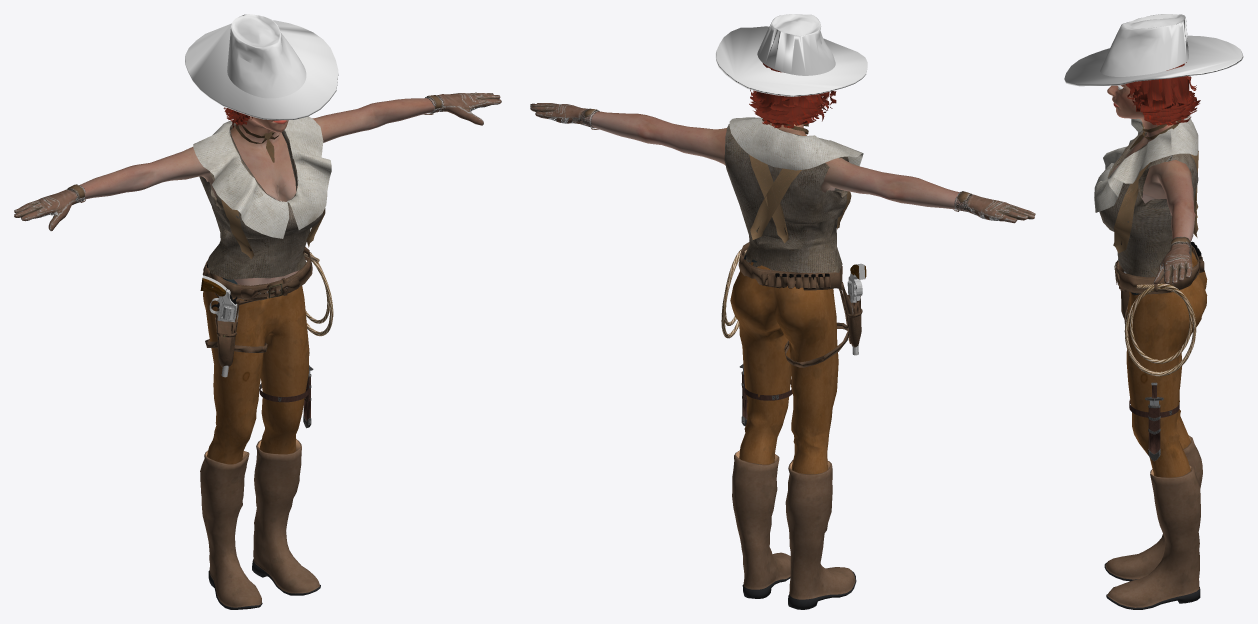
The model's file is DianaV2.fbx.
3 renders of one model, left to right at view 1: azimuth 30°, elevation 25°; view 2: azimuth 150°, elevation 25°; view 3: azimuth 270°, elevation 25°, orthographic.
Parts seen in each view (by area): view 1: Vestito, Pantaloni, Cappello, Stivali, Corpo, Cintura, Guanti, Corda; view 2: Pantaloni, Vestito, Stivali, Cappello, Corpo, Cintura, Guanti, Capelli; view 3: Vestito, Pantaloni, Stivali, Cappello, Corpo, Capelli, Corda, Cintura, Guanti, Coltello.
Boxes of the visible parts, <box> form: Vestito: <box>193,116,331,279</box>; Pantaloni: <box>203,277,309,464</box>; Cappello: <box>185,14,338,120</box>; Stivali: <box>200,439,320,609</box>; Corpo: <box>76,98,440,285</box>; Cintura: <box>202,246,312,366</box>; Guanti: <box>14,92,501,231</box>; Corda: <box>304,252,333,336</box>; Pantaloni: <box>730,255,838,474</box>; Vestito: <box>724,117,863,273</box>; Stivali: <box>732,450,856,609</box>; Cappello: <box>715,14,867,96</box>; Corpo: <box>585,111,970,262</box>; Cintura: <box>738,242,862,367</box>; Guanti: <box>530,103,1035,223</box>; Capelli: <box>749,63,836,128</box>; Vestito: <box>1094,116,1198,277</box>; Pantaloni: <box>1126,251,1207,477</box>; Stivali: <box>1104,435,1202,609</box>; Cappello: <box>1064,14,1243,86</box>; Corpo: <box>1107,84,1195,244</box>; Capelli: <box>1126,62,1200,125</box>; Corda: <box>1124,283,1196,376</box>; Cintura: <box>1114,241,1204,335</box>; Guanti: <box>1153,236,1192,284</box>; Coltello: <box>1145,382,1163,461</box>.
Size of the model in its own units: 498 by 546 by 155.
